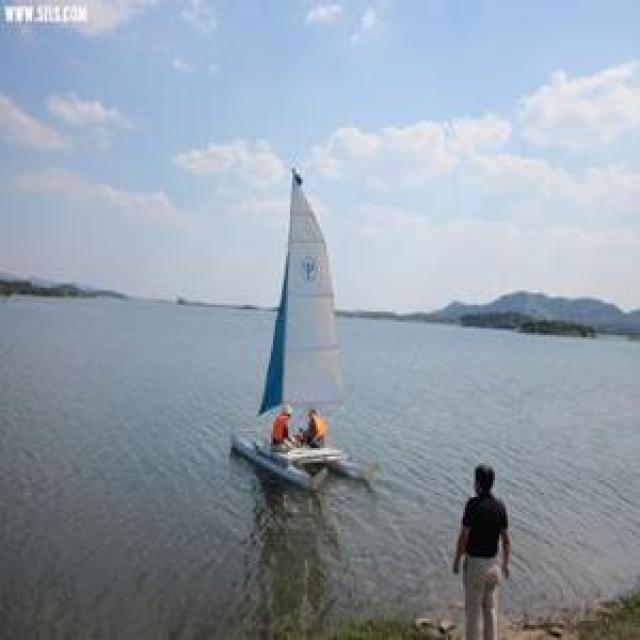sailboat: (159, 139, 374, 490)
